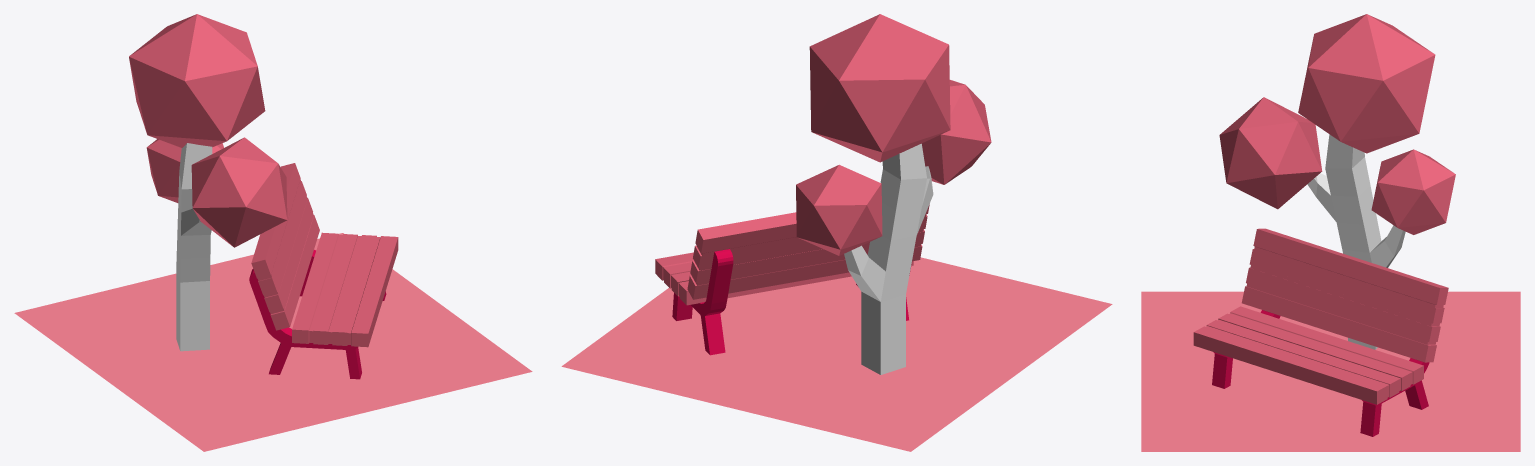
Rendered from small park_pink.fbx.
3 renders of one model, left to right at view 1: azimuth 30°, elevation 25°; view 2: azimuth 150°, elevation 25°; view 3: azimuth 270°, elevation 25°, orthographic. The views are drawn at different scales.
Parts seen in each view (by area): view 1: Plane, Icosphere.007, Cube.023; view 2: Plane, Icosphere.007, Cube.023; view 3: Plane, Icosphere.007, Cube.023.
Part boxes in pixels (x1,y1,x2,y2): Plane: (14, 233, 532, 451); Icosphere.007: (129, 14, 287, 351); Cube.023: (249, 163, 398, 379); Plane: (561, 257, 1112, 451); Icosphere.007: (796, 14, 991, 374); Cube.023: (655, 204, 929, 355); Plane: (1141, 291, 1520, 451); Icosphere.007: (1219, 14, 1455, 349); Cube.023: (1193, 228, 1448, 436).
Size of the model in its own units: 500 by 499 by 500.
